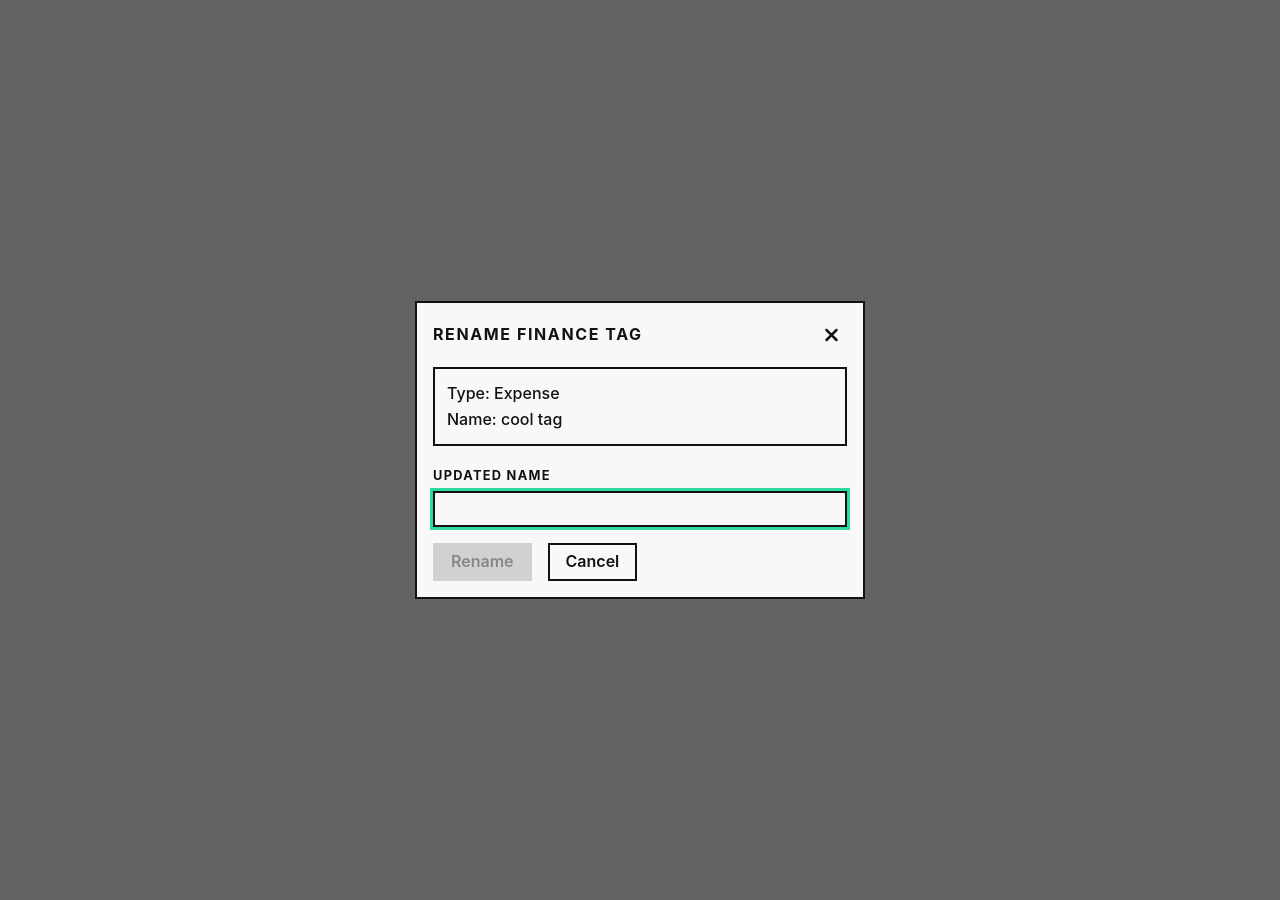
Test case: when submitting the form › disables the submit button while the request is pending
The image size is (1280, 900).
Type "2-updated" into the field labelled "Updated name" at (640, 509), box [433,491,847,527]
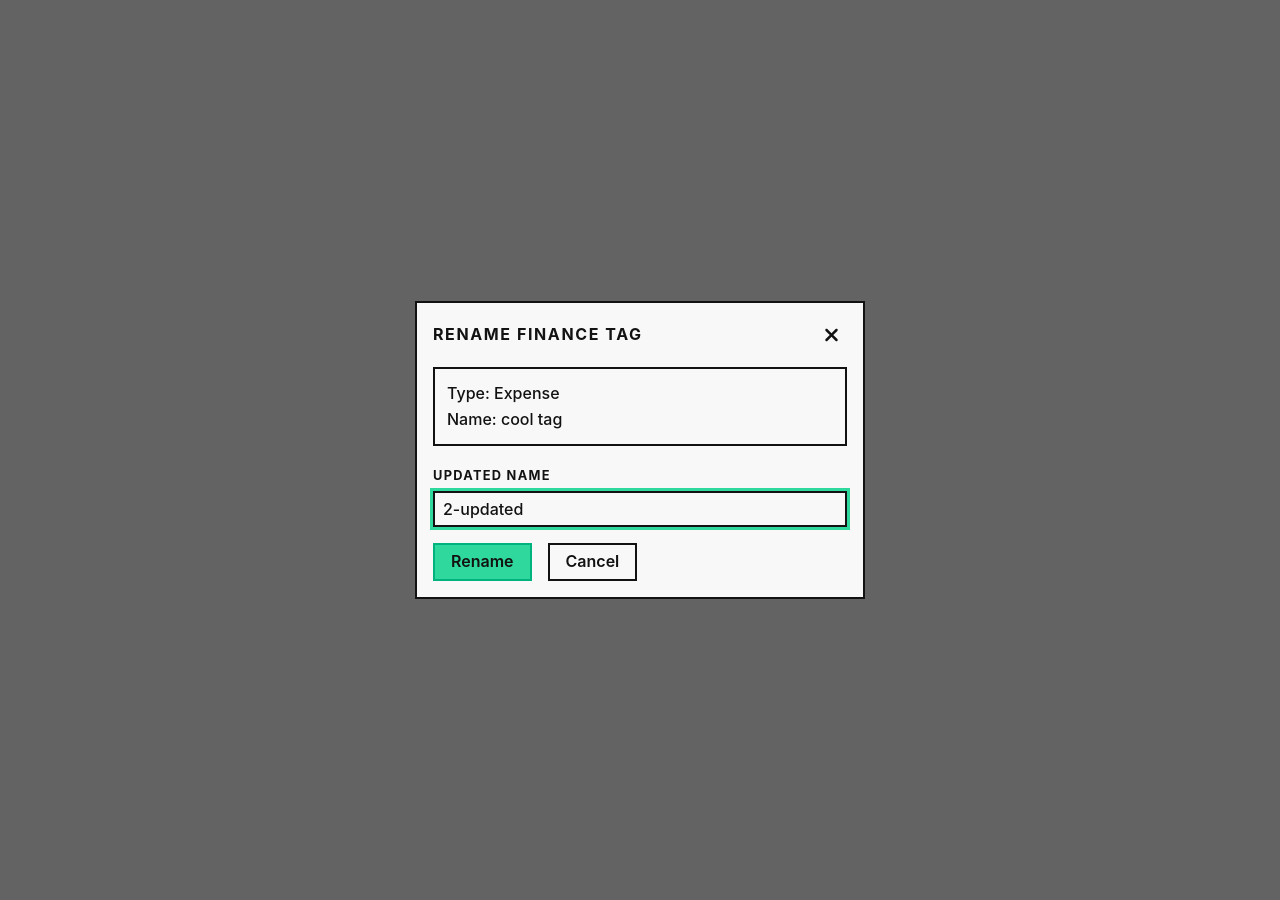
Submit the form from the submit button, box [433,543,532,581]
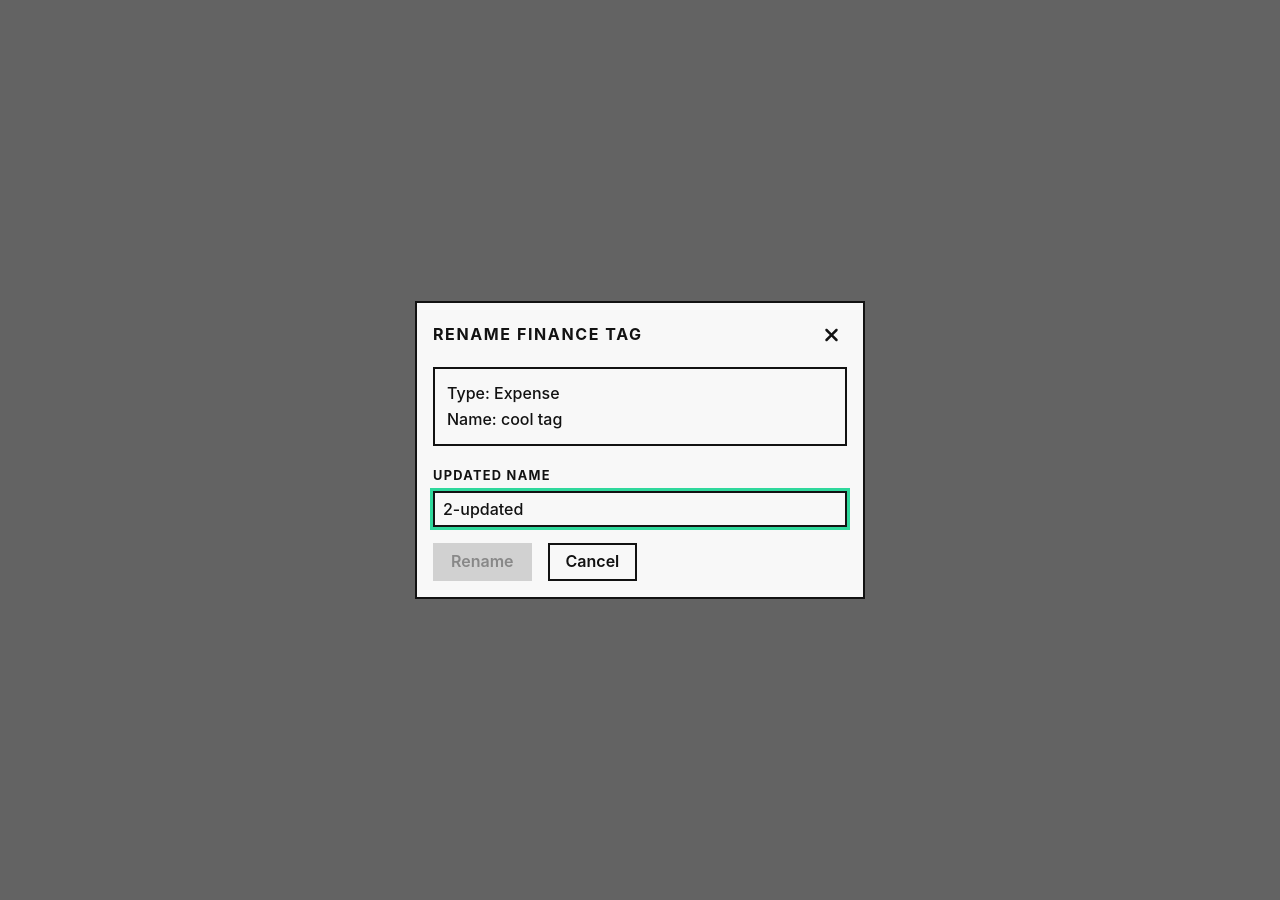
Check: the submit button is disabled, box [433,543,532,581]
